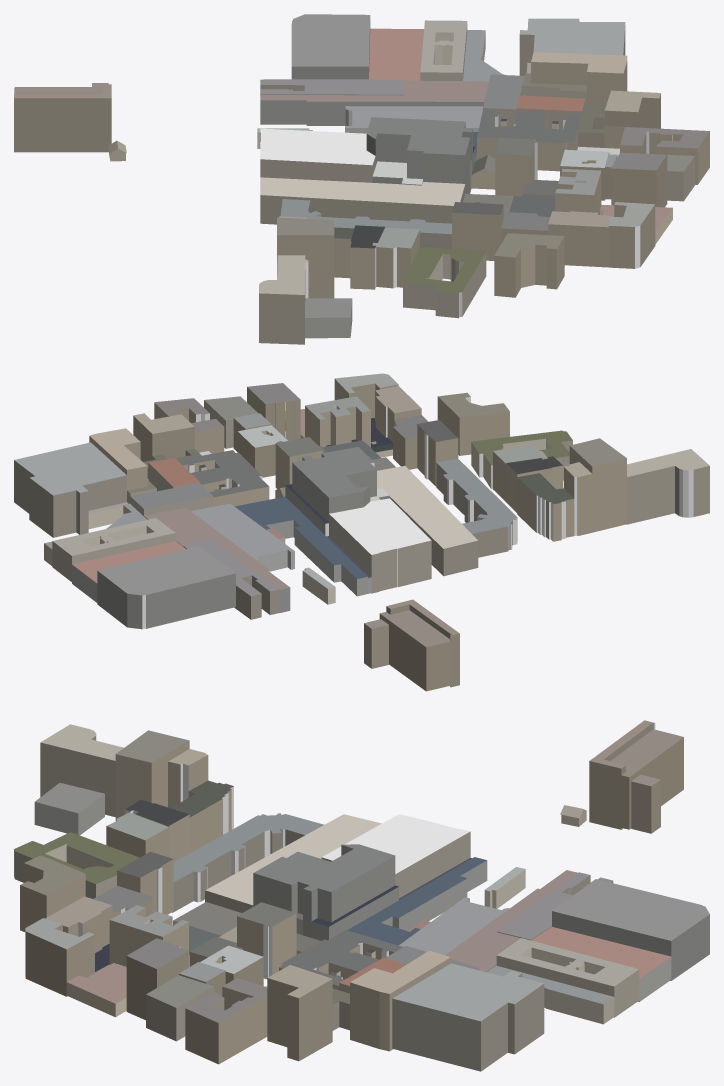
3 views of the same model, one above another, from view 1: azimuth 30°, elevation 25°; view 2: azimuth 150°, elevation 25°; view 3: azimuth 270°, elevation 25° (orthographic). The views are drawn at different scales.
Parts seen in each view (by area): view 1: tuile; view 2: tuile; view 3: tuile.
Boxes of the visible parts, bbox=[...] form: tuile: bbox=[14, 14, 709, 344]; tuile: bbox=[14, 373, 709, 691]; tuile: bbox=[14, 720, 709, 1071].
Size of the model in its own units: 280 by 35.25 by 272.
